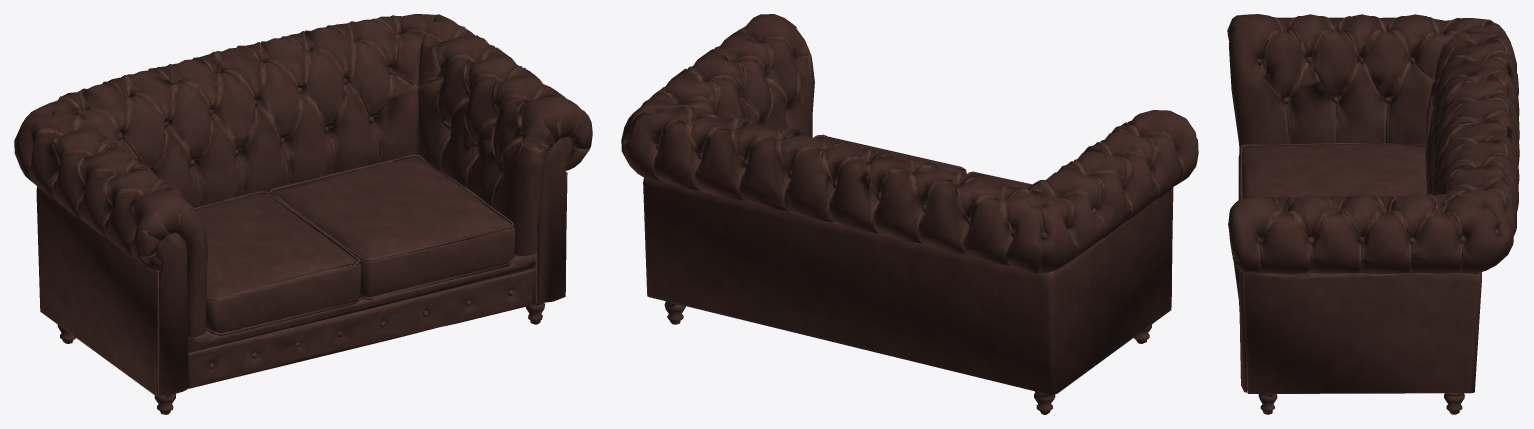
File: sofa.glb
3 renders of one model, left to right at view 1: azimuth 30°, elevation 25°; view 2: azimuth 150°, elevation 25°; view 3: azimuth 270°, elevation 25°, orthographic. The views are drawn at different scales.
Parts seen in each view (by area): view 1: sofa_geo_Leather_mat_0, legs_geo4_wood_mat_0; view 2: sofa_geo_Leather_mat_0, legs_geo4_wood_mat_0; view 3: sofa_geo_Leather_mat_0, legs_geo4_wood_mat_0.
Boxes of the visible parts, box(x1,y1,x2,y2) form: sofa_geo_Leather_mat_0: box(14, 14, 592, 395); legs_geo4_wood_mat_0: box(57, 303, 545, 414); sofa_geo_Leather_mat_0: box(621, 14, 1198, 394); legs_geo4_wood_mat_0: box(664, 301, 1152, 414); sofa_geo_Leather_mat_0: box(1227, 14, 1519, 393); legs_geo4_wood_mat_0: box(1258, 393, 1464, 414).
Size of the model in its own units: 2.12 by 1.03 by 1.23.
Materials: 2 (2 with a texture image).
